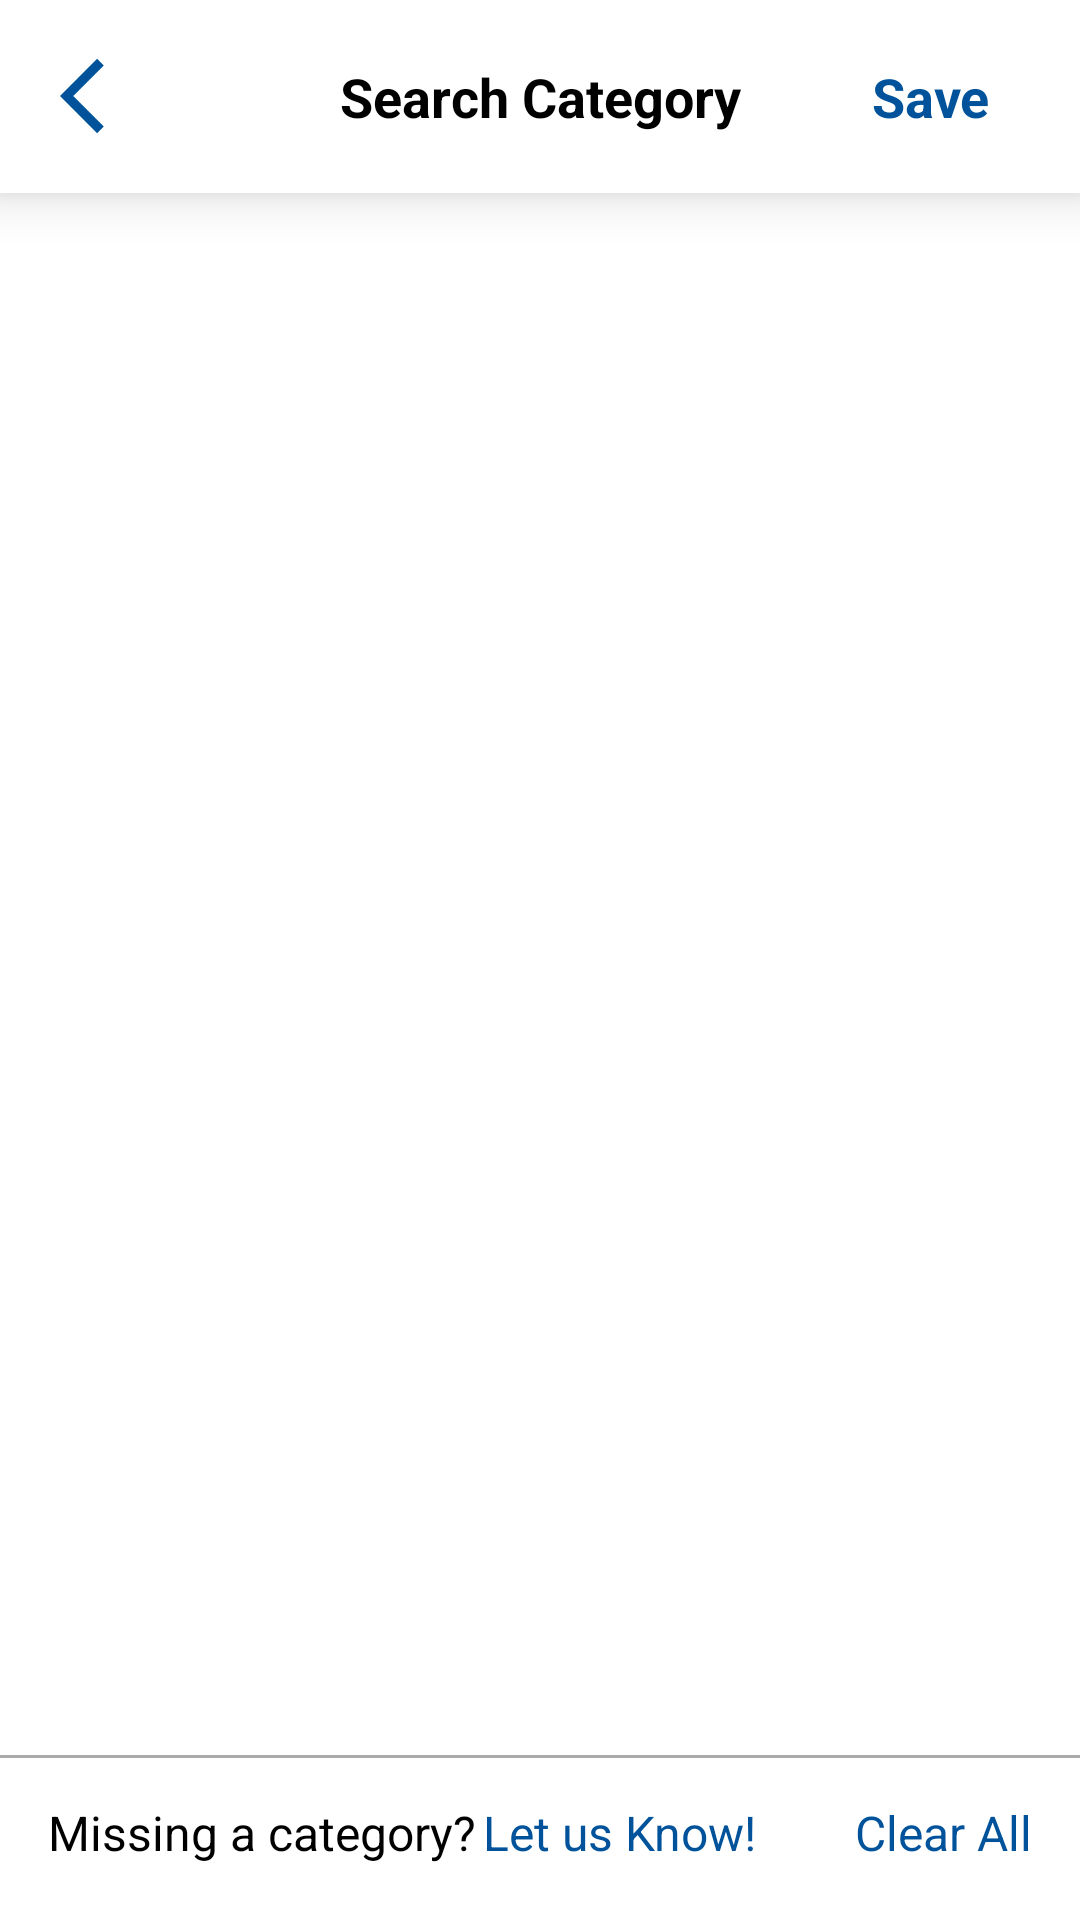

Icon click points for this 1080w x 1920h phone screenshot, format point (x, y):
arrow back: point (82, 96)
